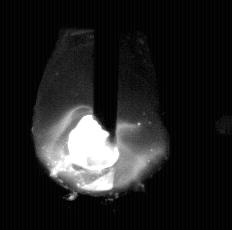arame: (94, 0, 119, 145)
poca: (31, 0, 164, 230)
